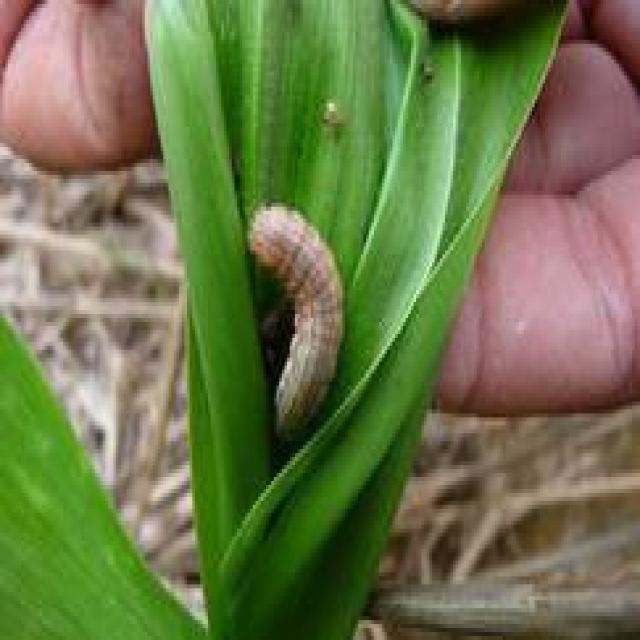BeetArmyWorm-Larva-: (246, 192, 347, 449)
